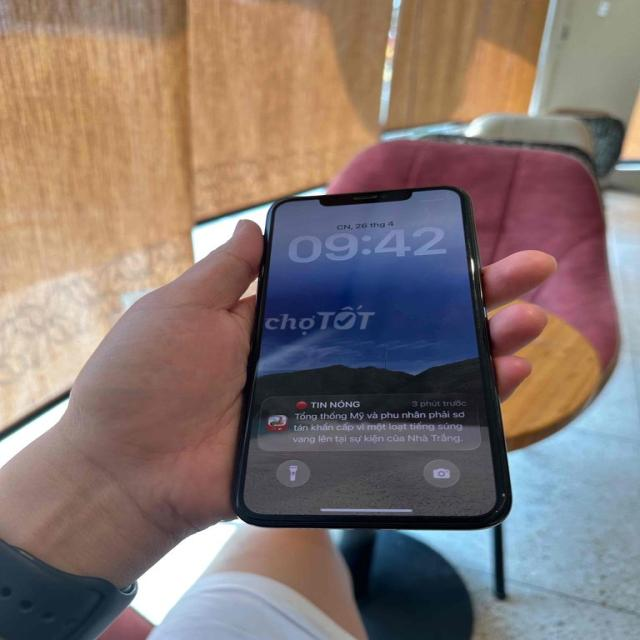gen_11: (247, 189, 508, 535)
